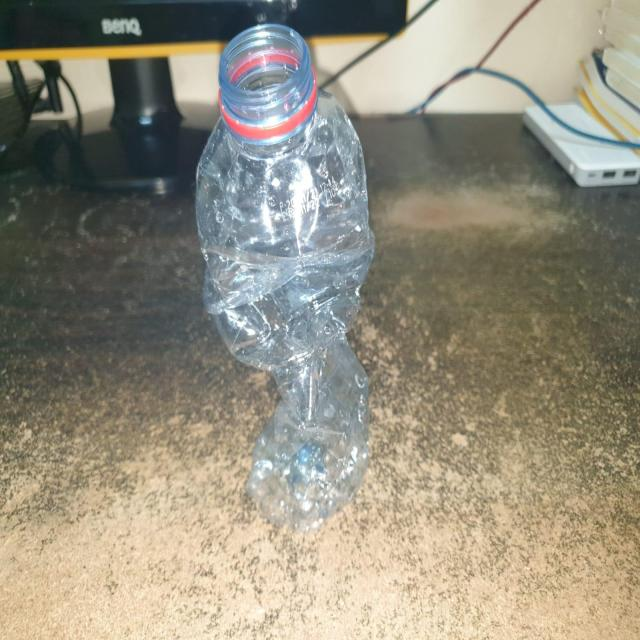bottle: (194, 16, 376, 530)
